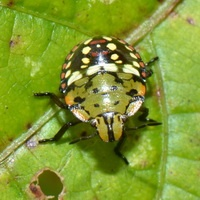insect: (0, 36, 157, 162), (32, 108, 76, 139)
